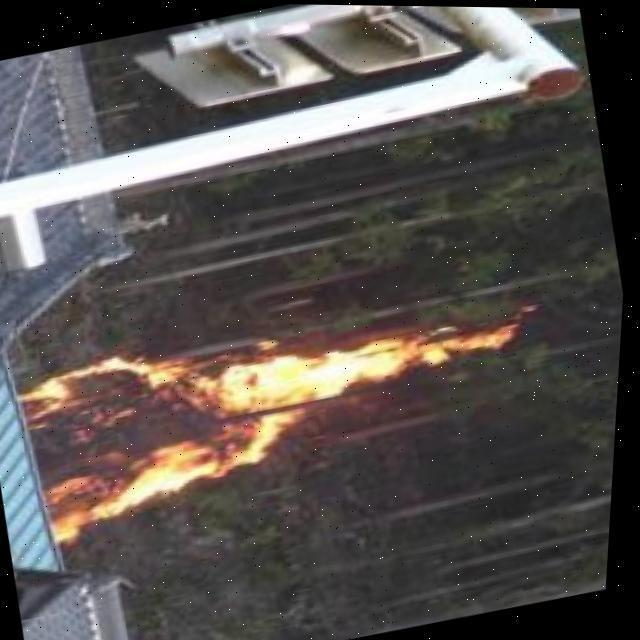fire: (8, 273, 532, 543)
